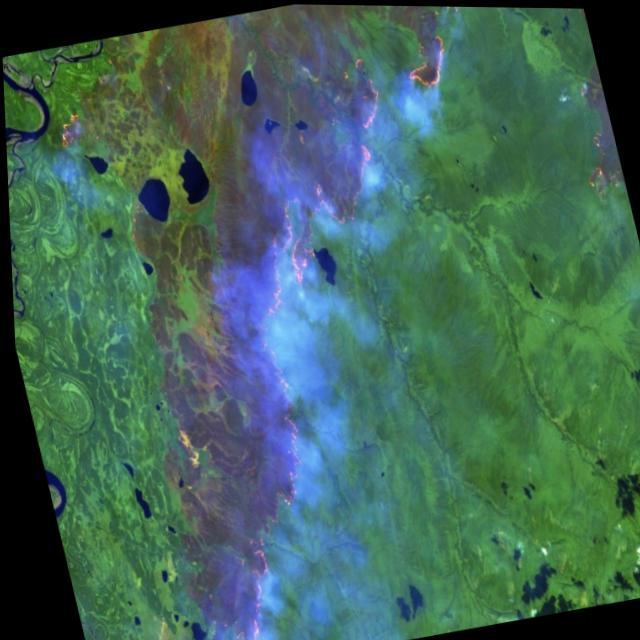fire: (80, 1, 605, 640), (38, 83, 92, 164)
